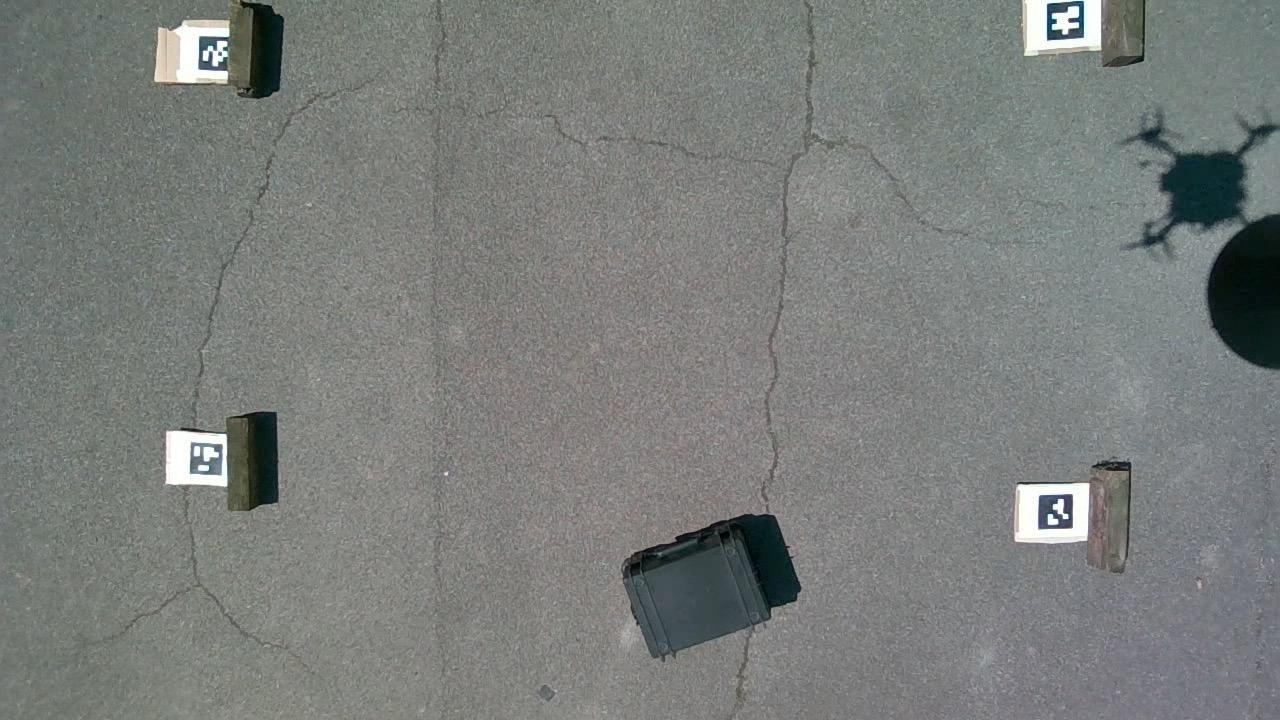rako: (621, 518, 773, 661)
